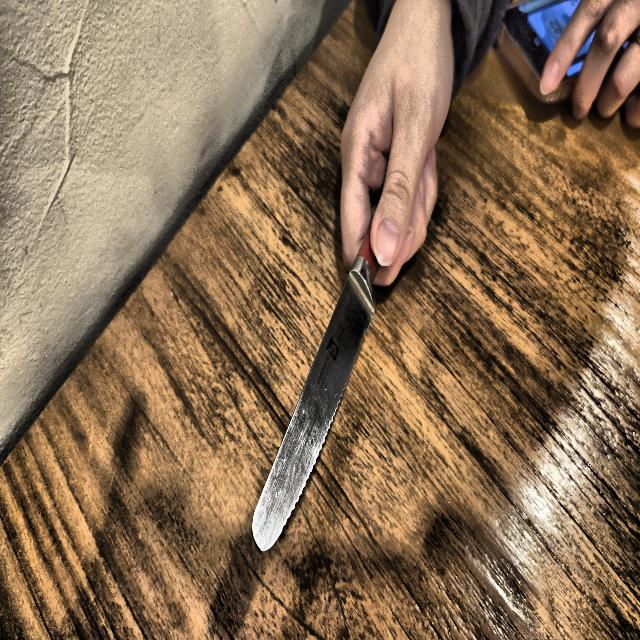knife: (250, 182, 387, 554)
